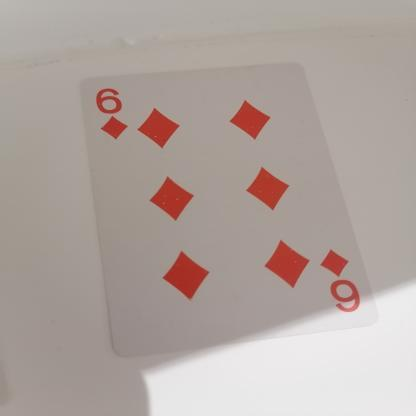6D: (308, 242, 369, 312), (88, 82, 138, 147)
